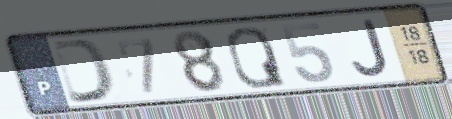5: (277, 20, 337, 85)
7: (116, 36, 158, 96)
8: (171, 29, 226, 95)
D: (48, 36, 117, 106)
J: (350, 17, 392, 79)
Q: (224, 24, 290, 91)
